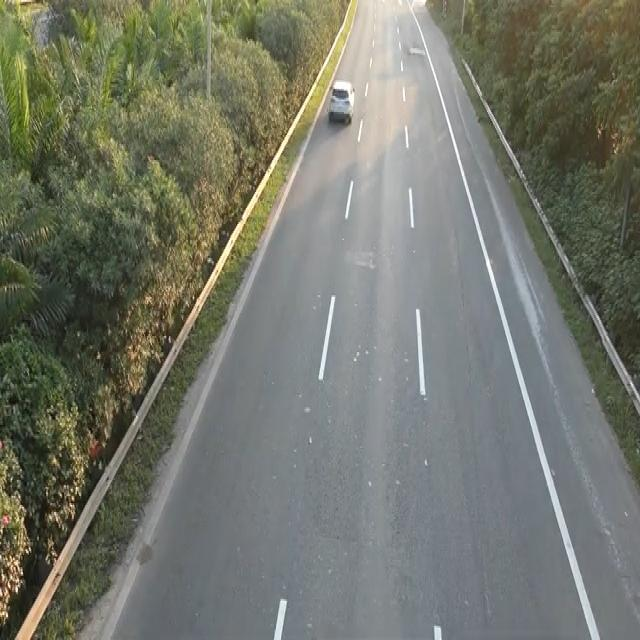car: (327, 76, 356, 125)
